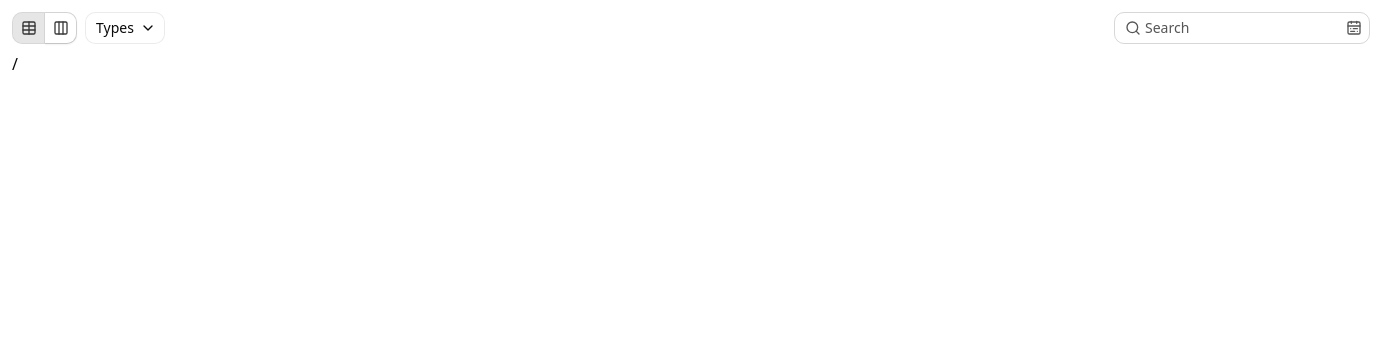
Test case: Feed toolbar filters › keeps multi-select open and summarizes selections in the established type order
Click the button with aria-label "Type: All" at (125, 28), box 85,12 -> 165,44
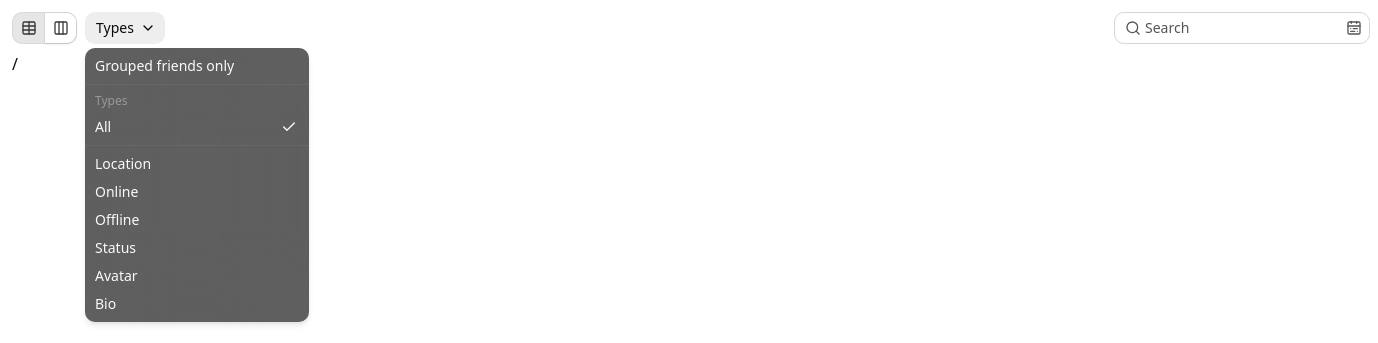
Click the menu item "Avatar" at (116, 276), box 95,266 -> 138,285
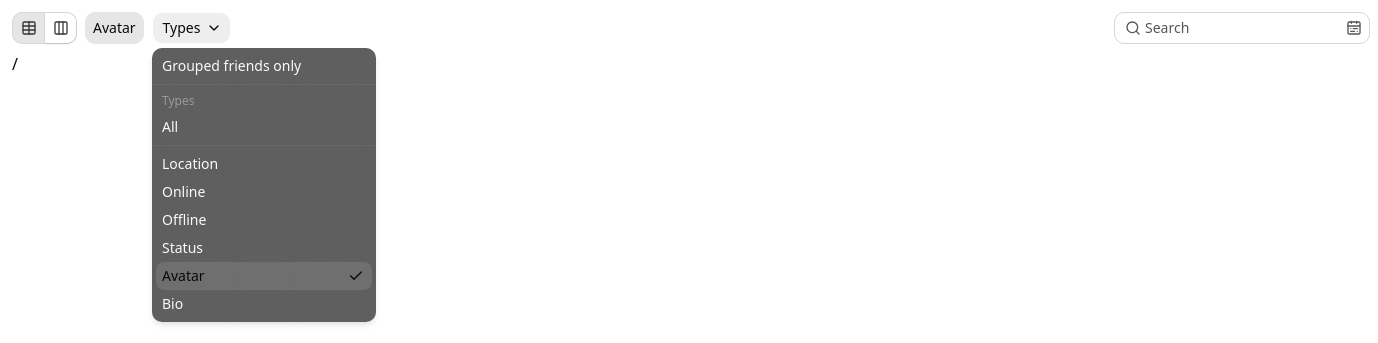
Expected: the button with aria-label "Type: Avatar" is shown, 152,12 -> 232,44
Click the menu item "Location" at (190, 164), box 162,154 -> 218,173
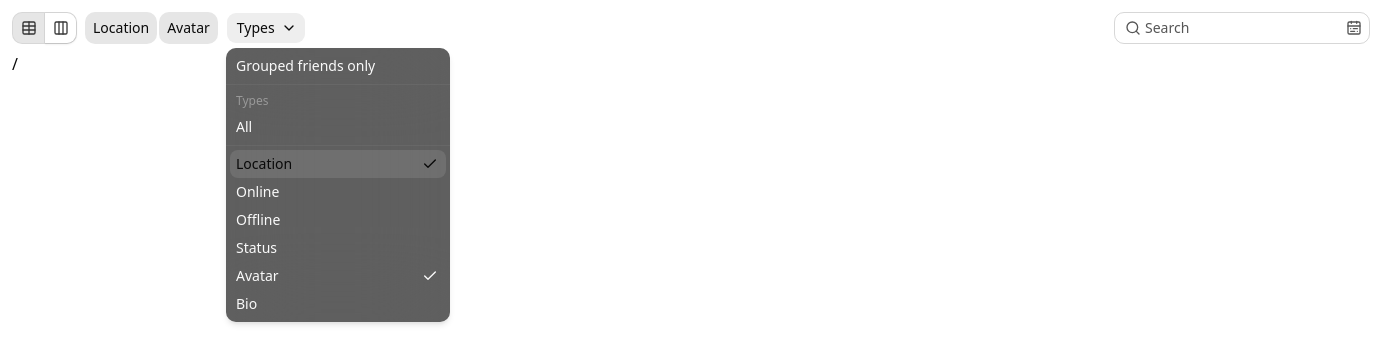
Expected: the button with aria-label "Type: Location +1" is shown, 226,12 -> 306,44
Click the menu item "All" at (244, 126), box 236,117 -> 252,136
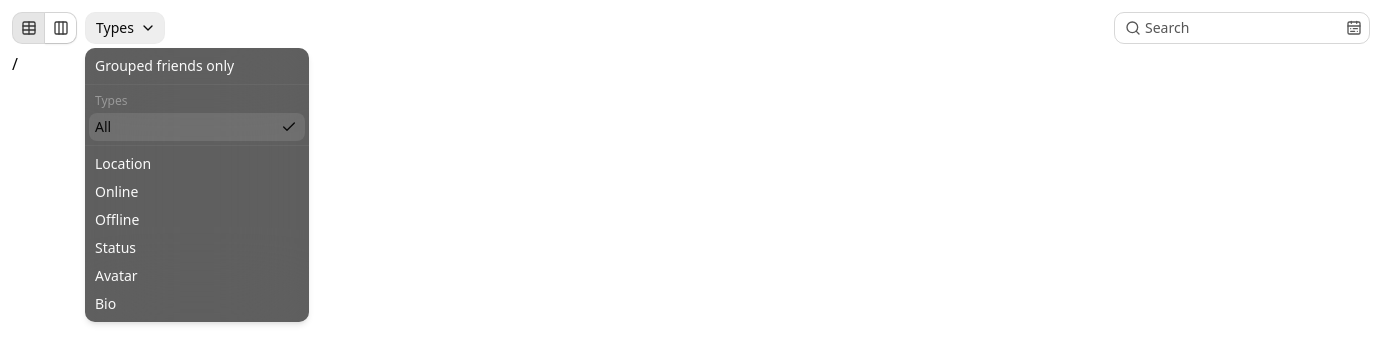
Expected: the button with aria-label "Type: All" is shown, 85,12 -> 165,44
